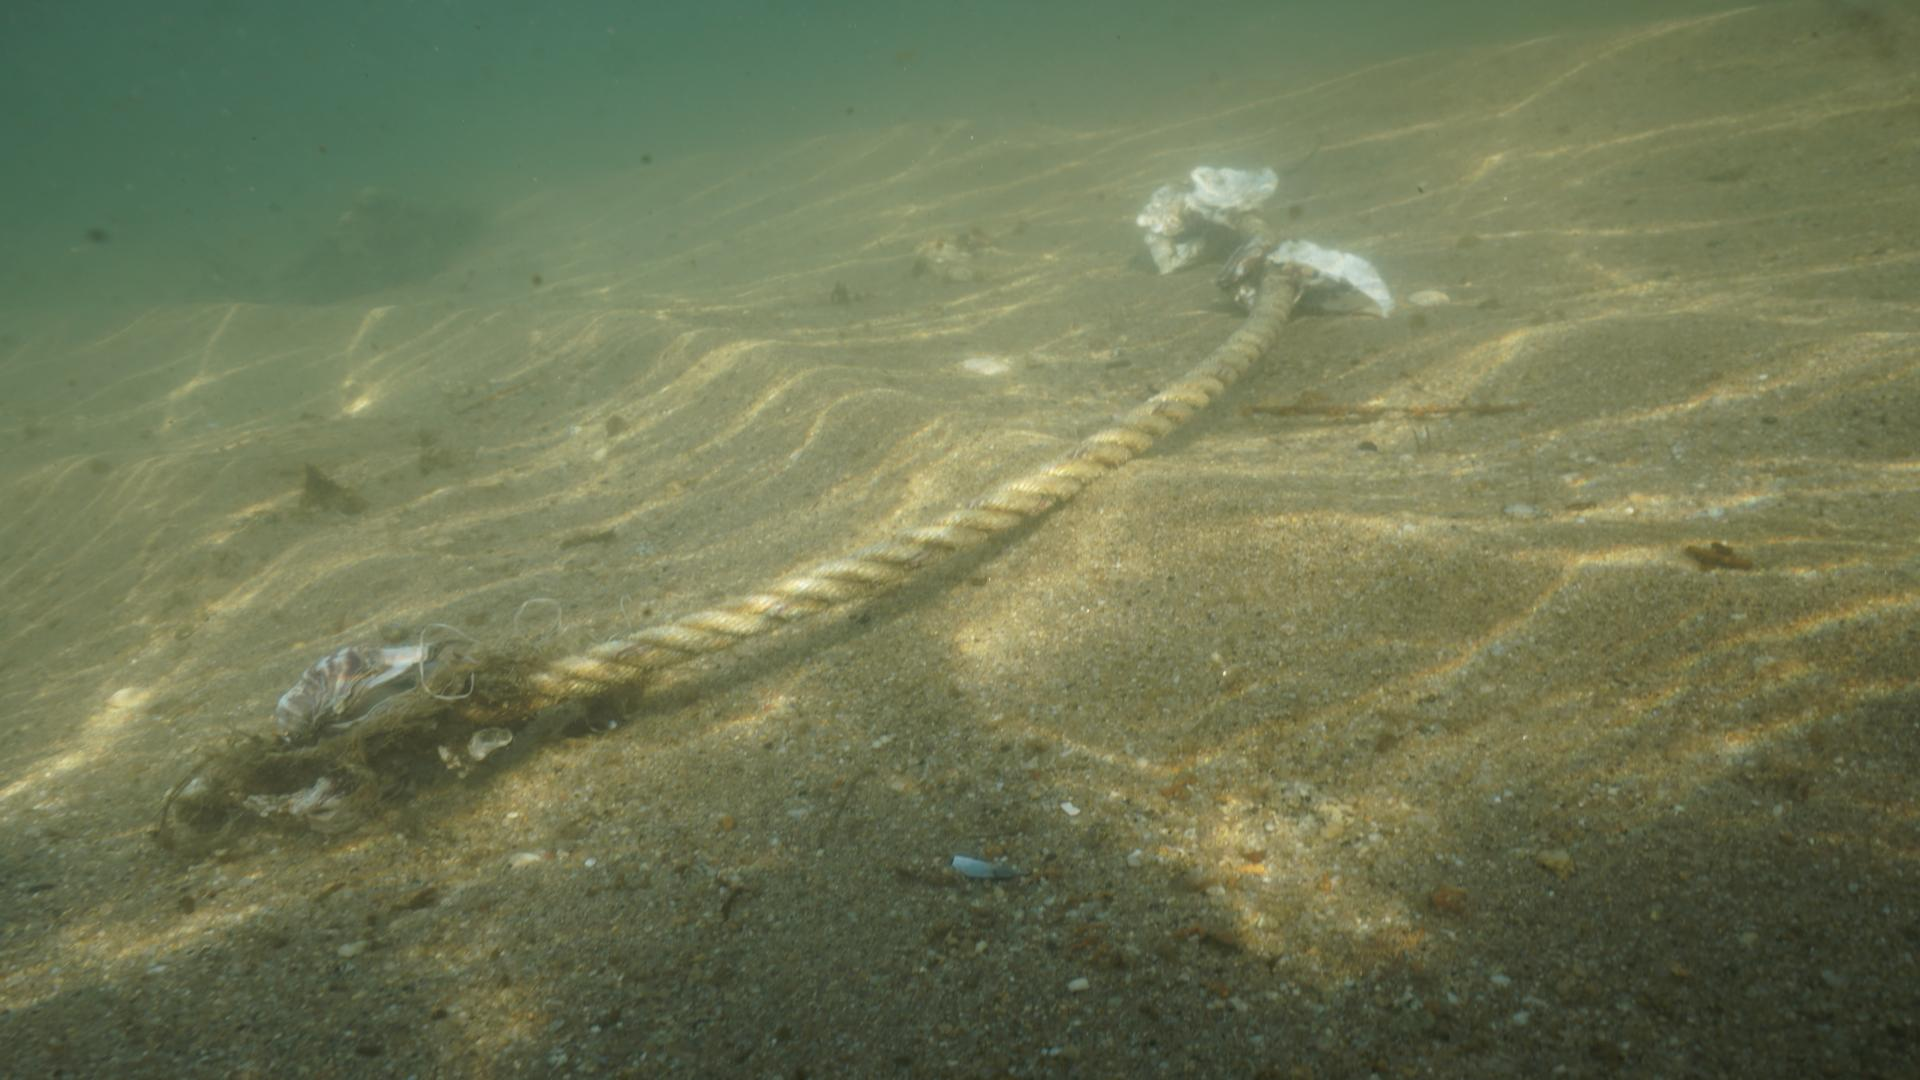rope: (520, 268, 1304, 729)
